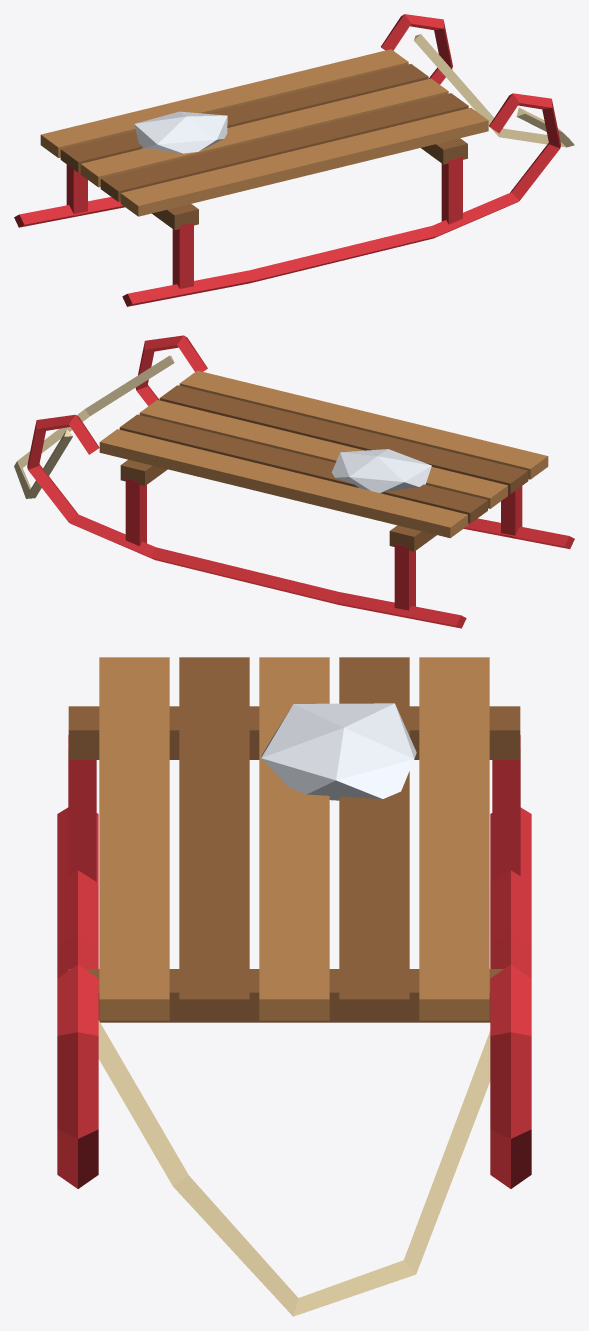
The model's file is sled.glb.
3 renders of one model, top to bottom at view 1: azimuth 30°, elevation 25°; view 2: azimuth 150°, elevation 25°; view 3: azimuth 270°, elevation 25°, orthographic. The views are drawn at different scales.
Parts seen in each view (by area): view 1: sled; view 2: sled; view 3: sled.
Part boxes in pixels (bbox=[...]): sled: bbox=[14, 14, 574, 306]; sled: bbox=[14, 335, 574, 628]; sled: bbox=[57, 657, 531, 1316].
Bounding box in the file's own units: 1.23 × 0.2953 × 0.504.
